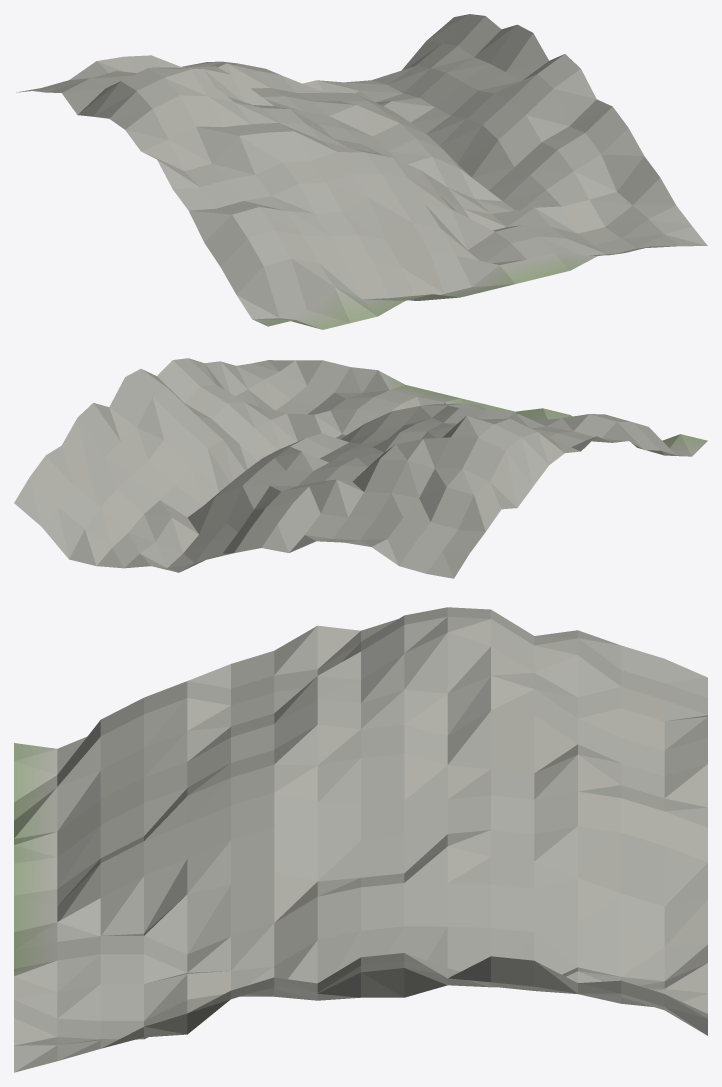
3 renders of one model, top to bottom at view 1: azimuth 30°, elevation 25°; view 2: azimuth 150°, elevation 25°; view 3: azimuth 270°, elevation 25°, orthographic. The views are drawn at different scales.
Size of the model in its own units: 32 by 10.44 by 32.
